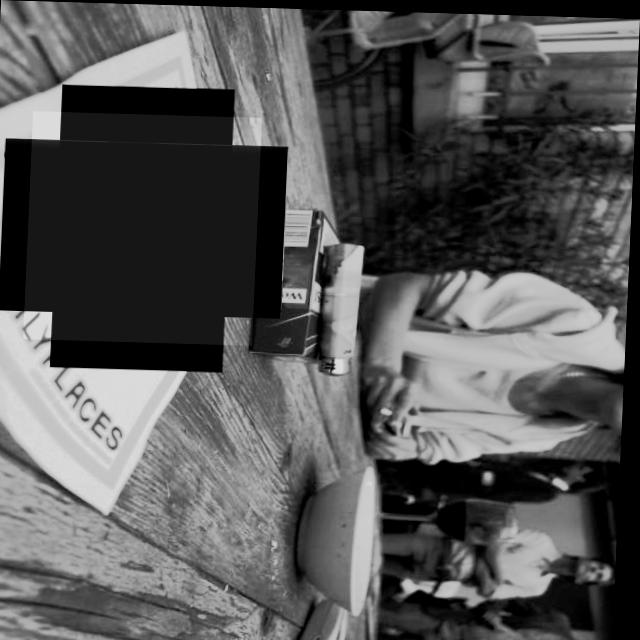qr_code: (25, 111, 262, 344)
